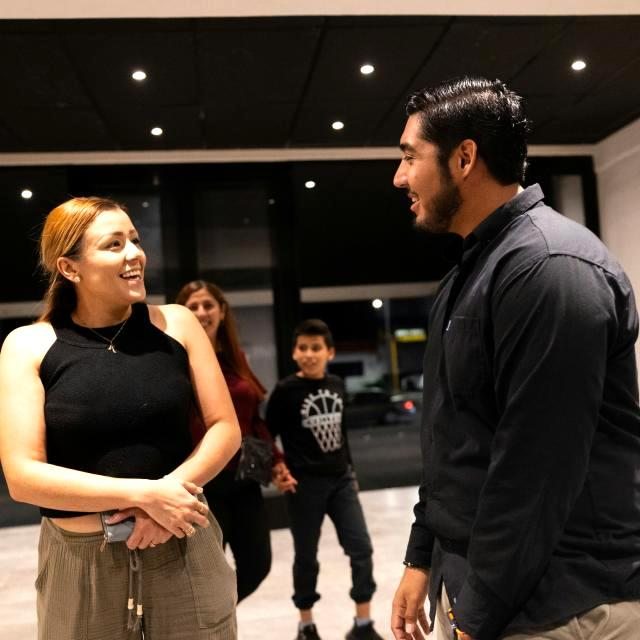no_head_wear: (390, 77, 640, 640), (409, 76, 534, 181), (37, 197, 126, 322), (179, 282, 270, 395), (292, 318, 335, 349)
person: (0, 193, 250, 640), (262, 315, 386, 640), (175, 280, 298, 607)
